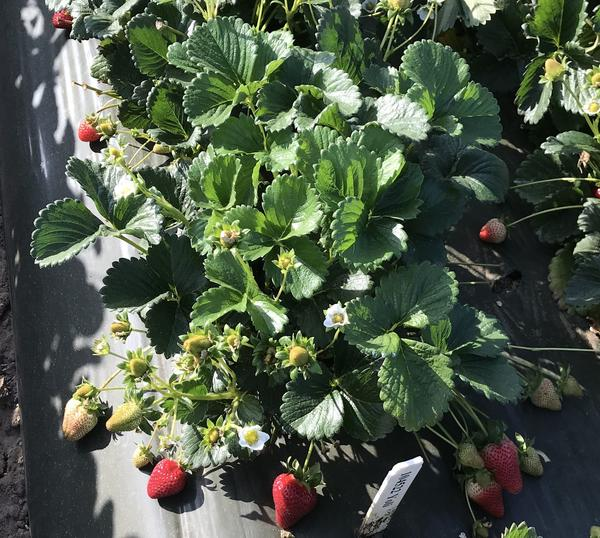ripe_strawberry: (478, 434, 525, 497), (272, 471, 319, 531), (466, 471, 508, 519), (148, 456, 191, 500), (78, 117, 106, 144), (51, 9, 72, 30)
unripe_strawberry: (61, 396, 101, 444), (526, 375, 564, 414), (105, 401, 144, 435), (518, 444, 545, 478), (478, 217, 510, 245), (456, 441, 485, 471), (556, 373, 585, 401), (183, 334, 213, 359), (288, 345, 312, 369), (110, 317, 133, 339), (129, 357, 151, 380), (133, 446, 153, 470)
